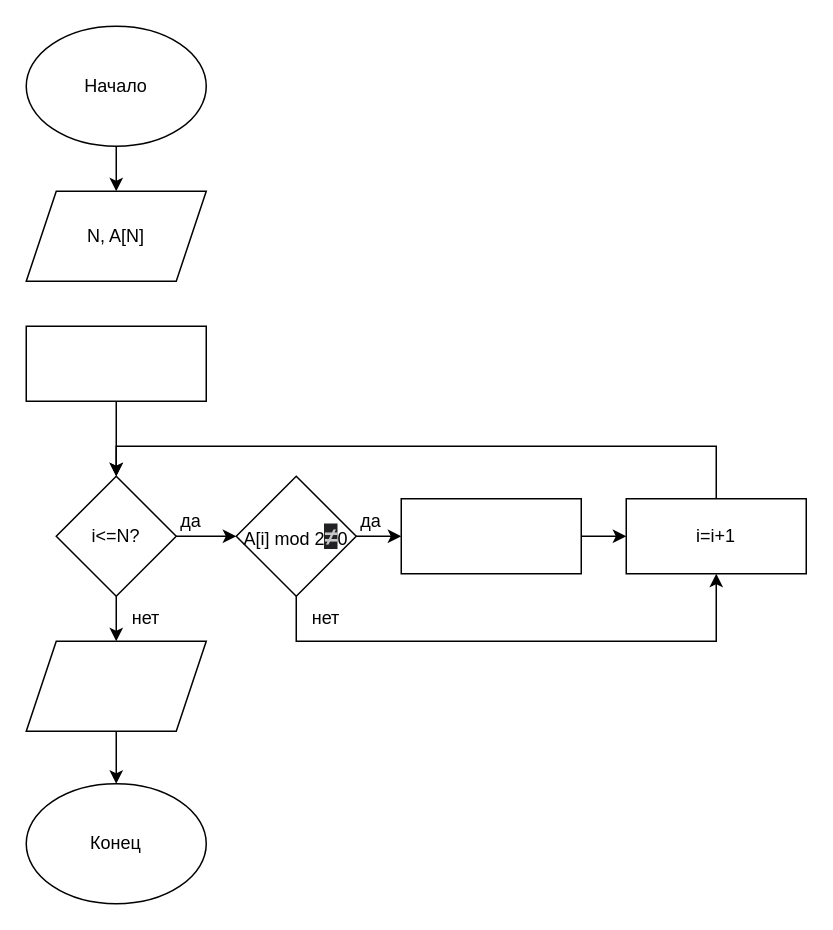
The diagram is 833 pixels wide and 930 high, and some of its shapes have lost their labels. The shapes that lost their labels are listed below. From the top down, each one's box as (x1, y1, x2, y2) in pixels, then its label:
(25, 325, 206, 401): i=1, sum=0
(400, 497, 581, 574): sum=sum+A[i]
(25, 640, 206, 731): sum
